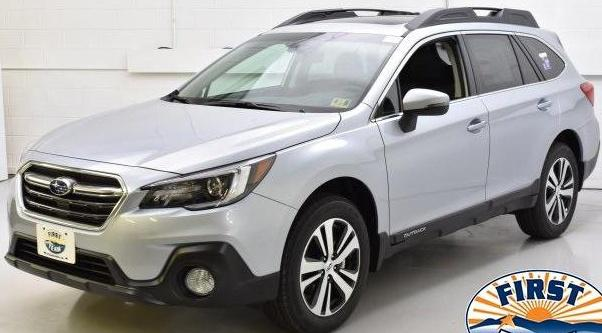SUV: (7, 8, 601, 331)
